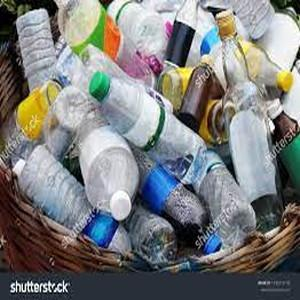Plastic: (90, 71, 209, 183), (23, 147, 137, 253)
